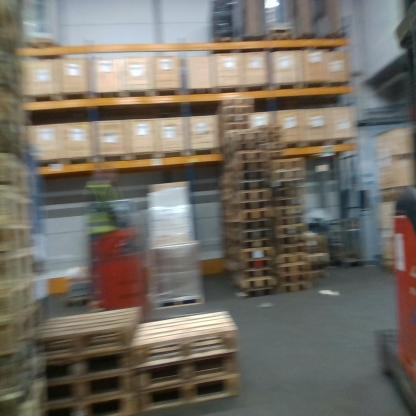forklift: (374, 0, 416, 415)
pallet: (131, 308, 238, 375), (30, 309, 146, 364), (138, 350, 248, 394), (139, 372, 248, 411), (38, 375, 140, 409), (34, 351, 139, 380), (40, 391, 142, 414), (152, 293, 205, 318), (224, 274, 275, 289), (234, 188, 268, 209), (275, 253, 308, 274), (268, 27, 296, 51), (234, 210, 273, 226), (233, 248, 271, 262), (239, 229, 270, 246), (277, 280, 309, 296), (234, 171, 268, 186), (270, 228, 304, 243), (272, 219, 306, 234), (235, 221, 271, 235), (230, 270, 279, 280), (235, 162, 267, 177), (235, 181, 266, 196), (278, 261, 307, 277), (236, 200, 270, 213), (275, 245, 306, 258), (271, 236, 304, 248), (269, 210, 304, 221), (277, 272, 306, 285), (209, 35, 234, 50), (233, 262, 274, 271), (233, 151, 255, 167), (236, 242, 271, 248), (317, 272, 327, 288)
pallet_truck: (81, 213, 154, 322)
stillage: (318, 214, 362, 273)
